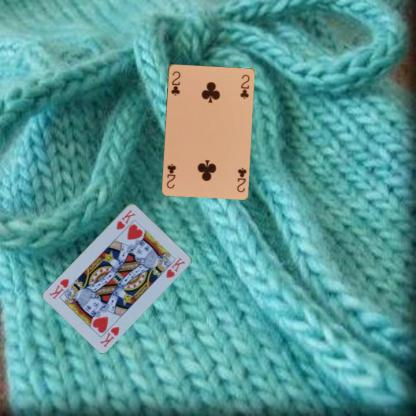2c: (168, 68, 182, 97), (234, 165, 247, 194)
Kh: (97, 324, 121, 348), (114, 207, 137, 232)
